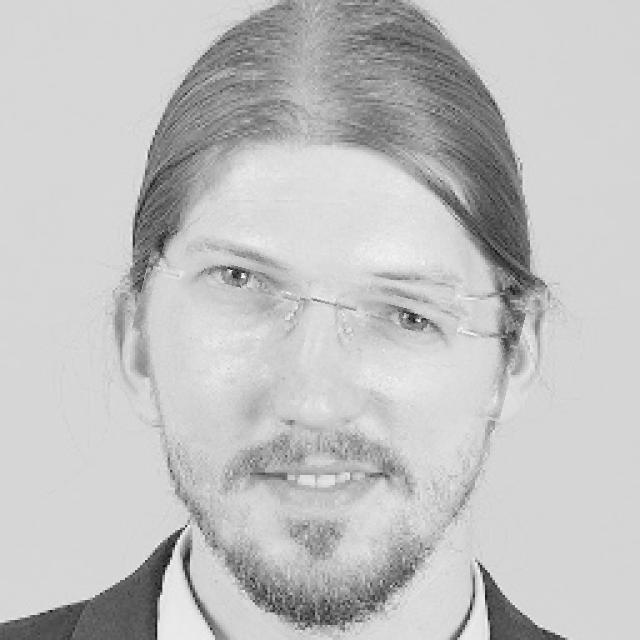glasses: (135, 244, 522, 400)
